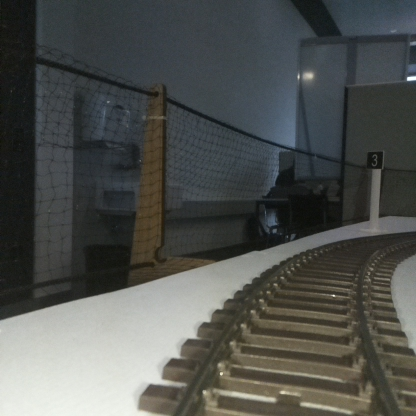black-info-3: (366, 151, 383, 231)
